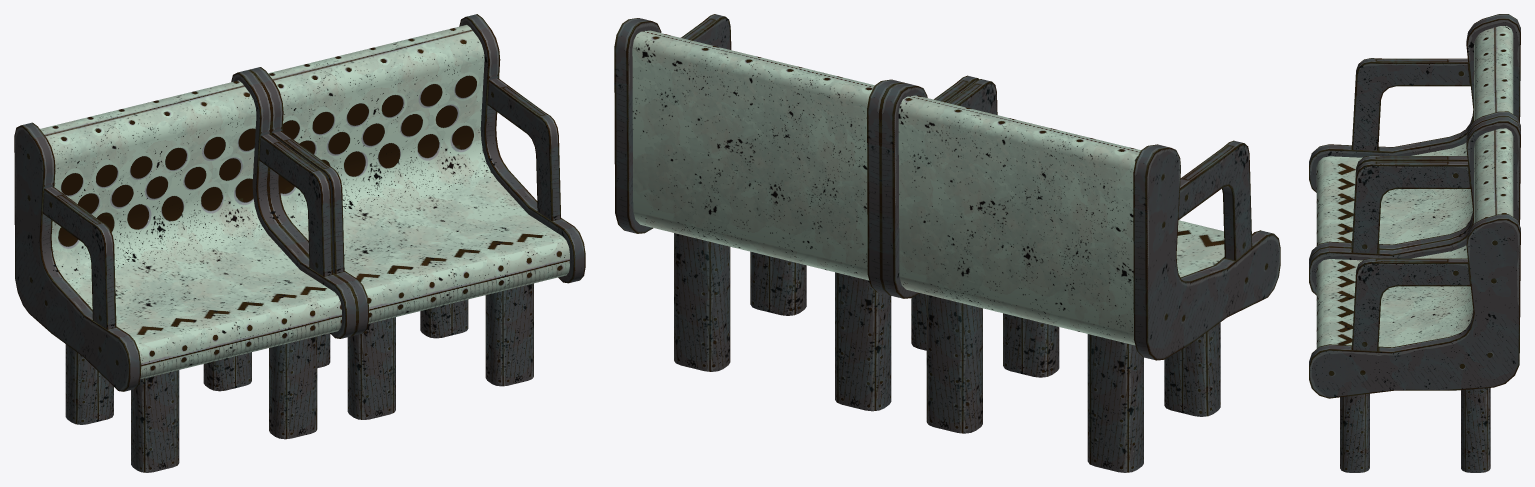
The model's file is UndergroundSeat.fbx.
The picture shows the model from 3 angles, left to right: view 1: azimuth 30°, elevation 25°; view 2: azimuth 150°, elevation 25°; view 3: azimuth 270°, elevation 25°; orthographic projection. The views are drawn at different scales.
Visible parts, largest first — view 1: UndergroundSeat.001; view 2: UndergroundSeat.001; view 3: UndergroundSeat.001.
Part boxes in pixels (<box>): UndergroundSeat.001: <box>14,14,585,472</box>; UndergroundSeat.001: <box>614,14,1280,472</box>; UndergroundSeat.001: <box>1309,14,1520,472</box>.
Bounding box in the file's own units: 211 × 128 × 91.88.
